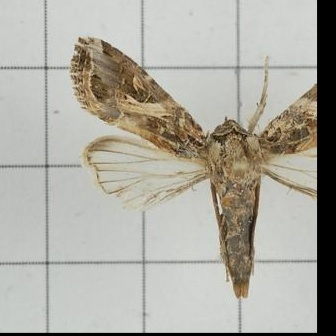Spodoptera litura: (68, 35, 317, 297)
